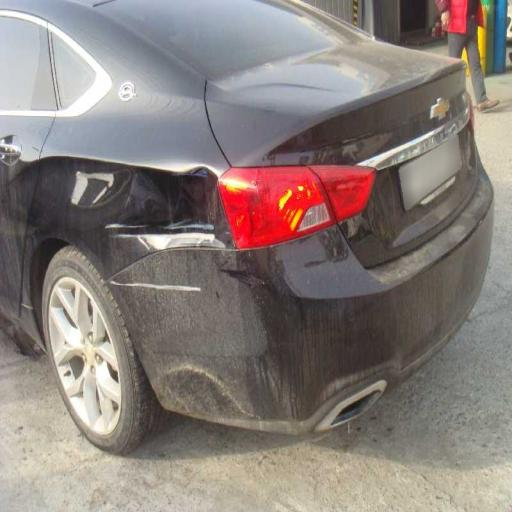dent: (24, 113, 239, 252)
scratch: (120, 227, 336, 435)
